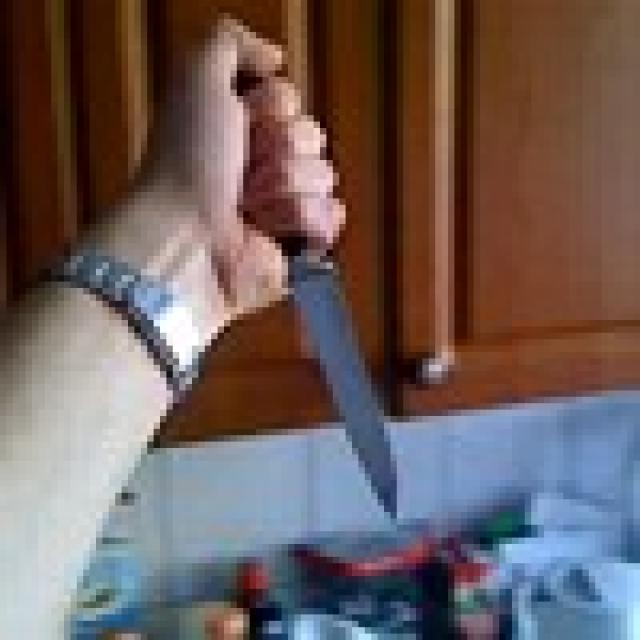Weapons: (276, 232, 401, 526)
